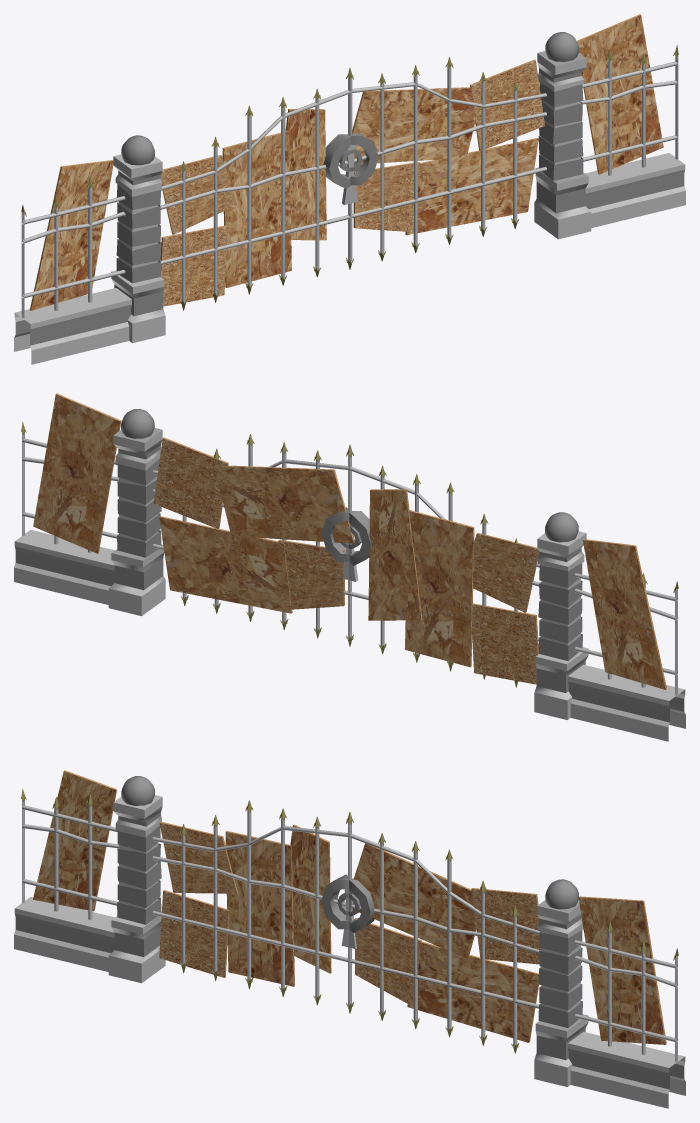
Rendered from Gate_Strong_Mod_01.fbx.
3 views of the same model, one above another, from view 1: azimuth 30°, elevation 25°; view 2: azimuth 150°, elevation 25°; view 3: azimuth 330°, elevation 25° (orthographic).
Visible parts, largest first — view 1: GateWalls4_Strong, GateLeftStrong, GateRightStrong; view 2: GateWalls4_Strong, GateLeftStrong, GateRightStrong; view 3: GateWalls4_Strong, GateLeftStrong, GateRightStrong.
Boxes of the visible parts, x1,y1,x2,y2 form: GateWalls4_Strong: (14,14,685,364); GateLeftStrong: (345,57,546,269); GateRightStrong: (160,68,351,310); GateWalls4_Strong: (14,393,685,741); GateLeftStrong: (152,434,354,645); GateRightStrong: (348,444,539,687); GateWalls4_Strong: (14,770,685,1108); GateLeftStrong: (348,812,541,1053); GateRightStrong: (152,800,349,1012).
Size of the model in its own units: 10 by 3.08 by 0.6284.
